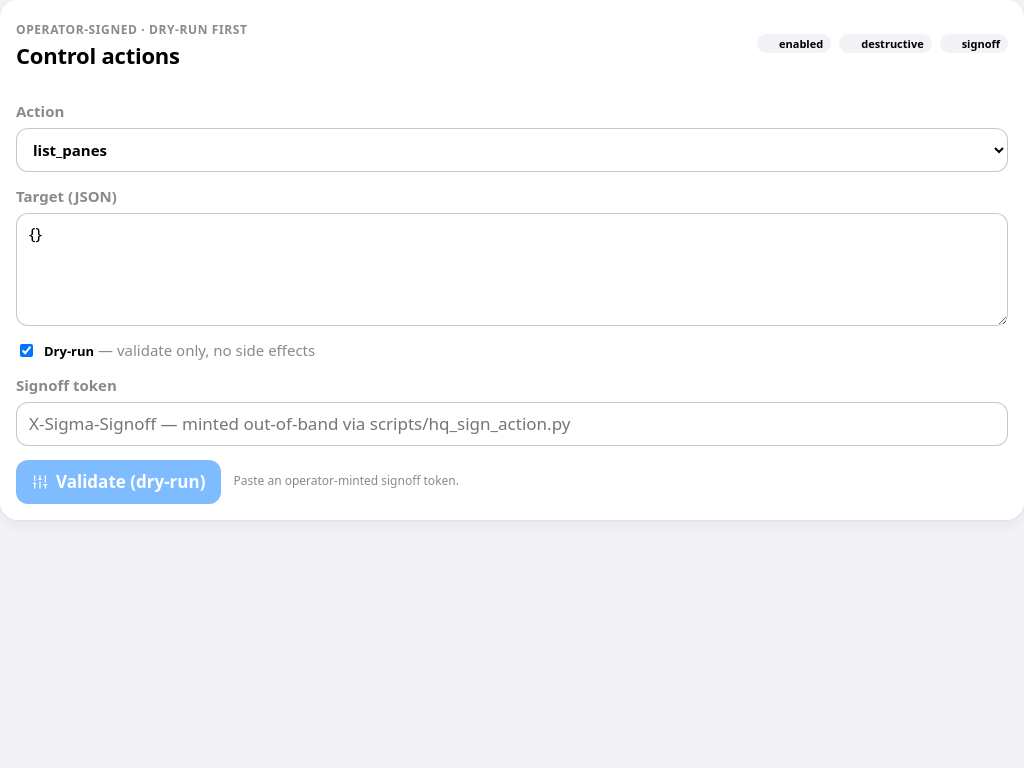
it: ActionsPanel › shows the destructive warning when a destructive action runs live
// pick the destructive action and turn dry-run off
Select "stop_pane ⚠ destructive" in the dropdown labelled "Action" at (512, 150), box [16, 128, 1008, 172]
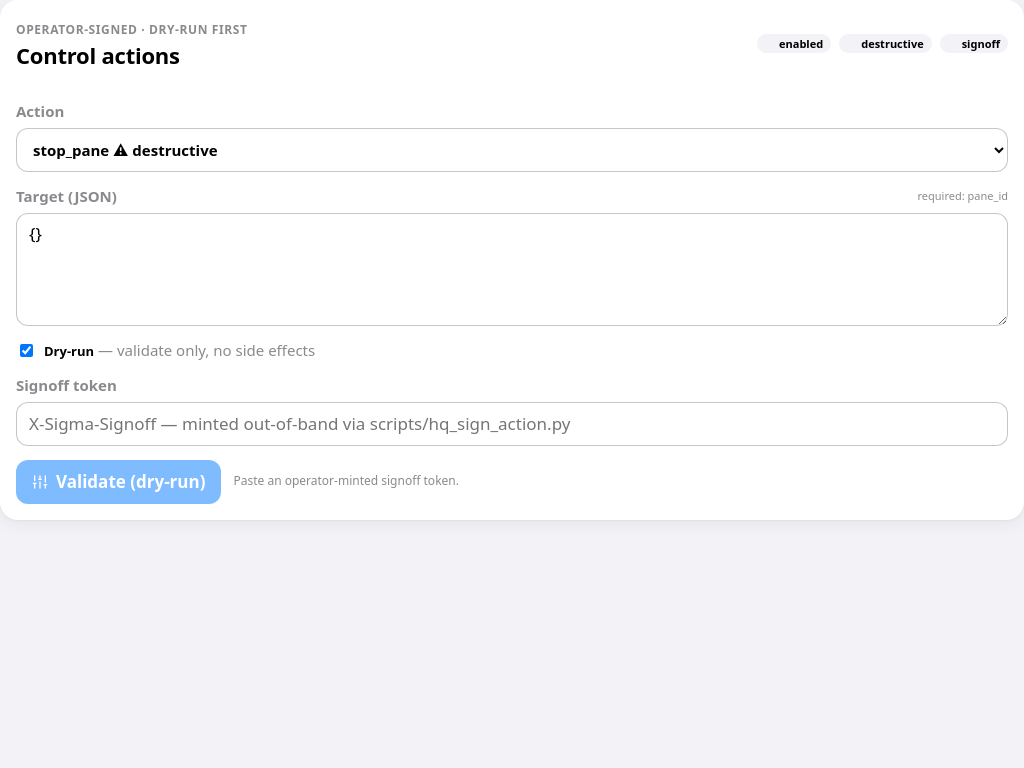
Click the checkbox labelled "Dry-run — validate only, no side effects" at (26, 350), box [20, 344, 33, 357]
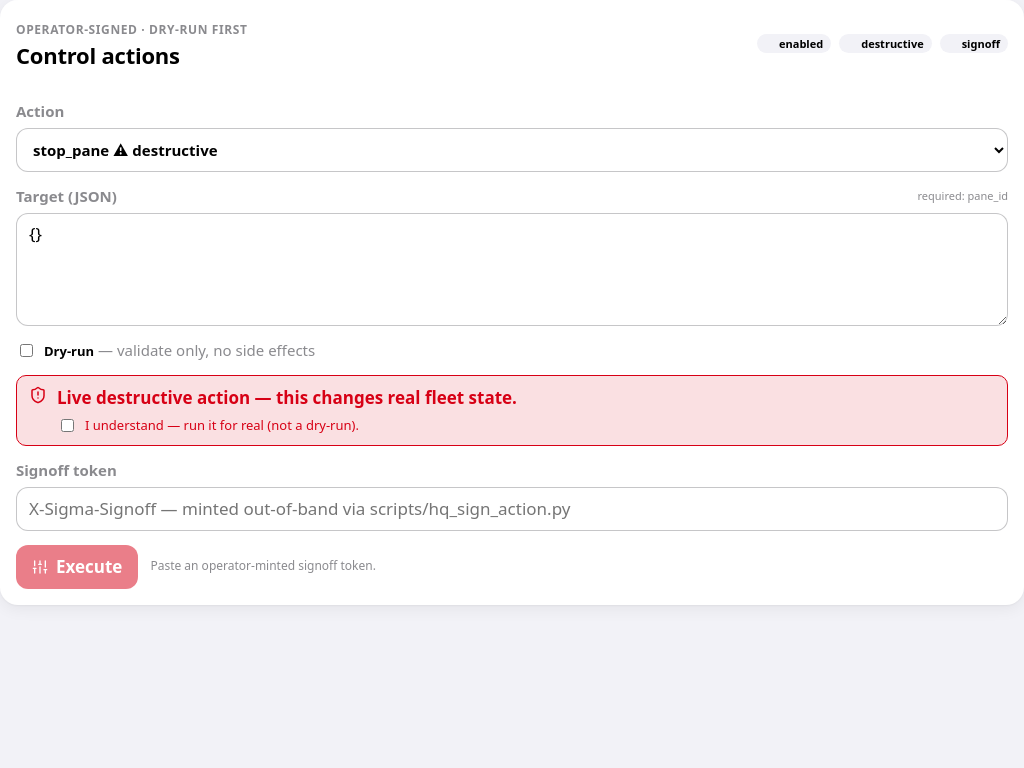
expect the text "Live destructive action — this changes real fleet state." is shown: met, box [57, 386, 517, 409]
